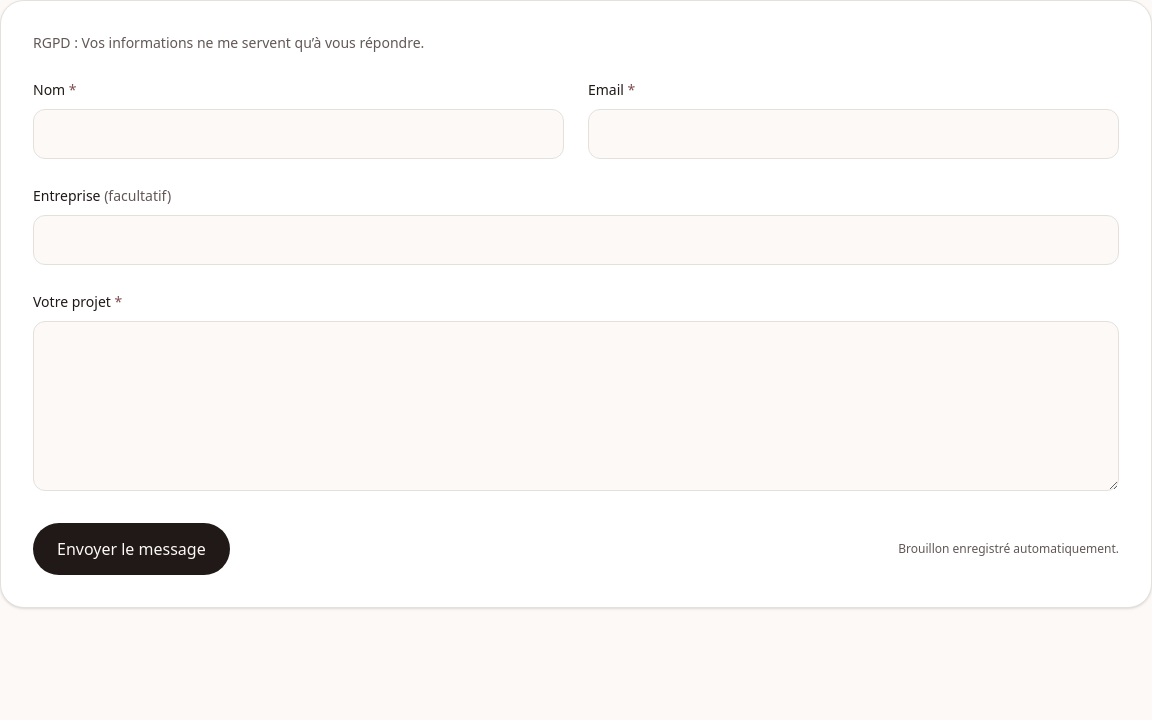
Scenario: ContactForm › confirms the delivery and clears the draft once the message is sent
The width and height of the screenshot is (1152, 720).
Type "Ada Lovelace" into the field labelled "Nom" at (298, 134), box [33, 109, 564, 159]
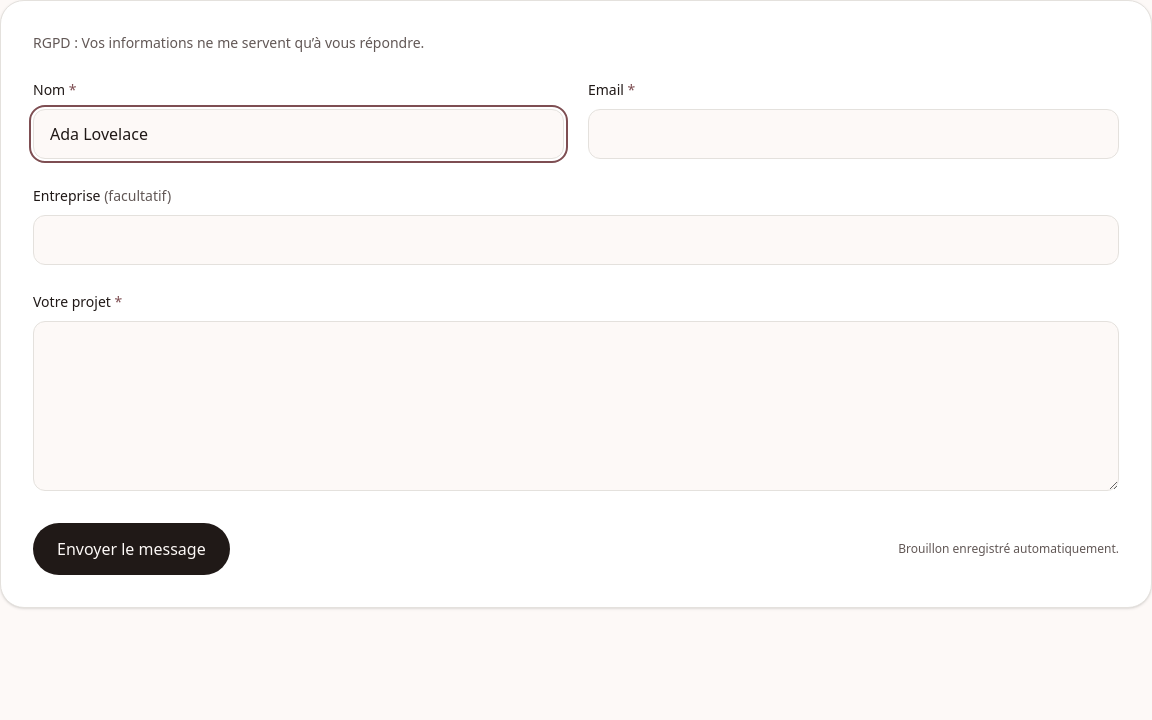
Type "ada@example.com" into the field labelled "Email" at (854, 134), box [588, 109, 1119, 159]
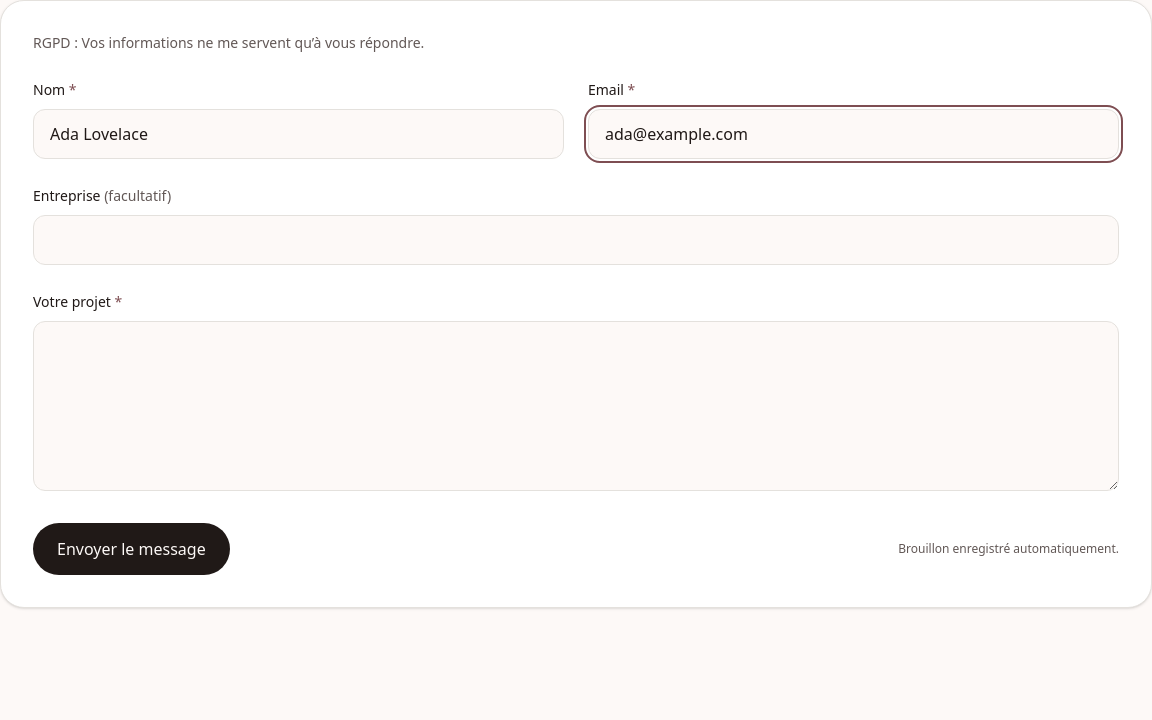
Type "Refonte de notre site vitrine en React." into the text box labelled "Votre projet" at (576, 406), box [33, 321, 1119, 491]
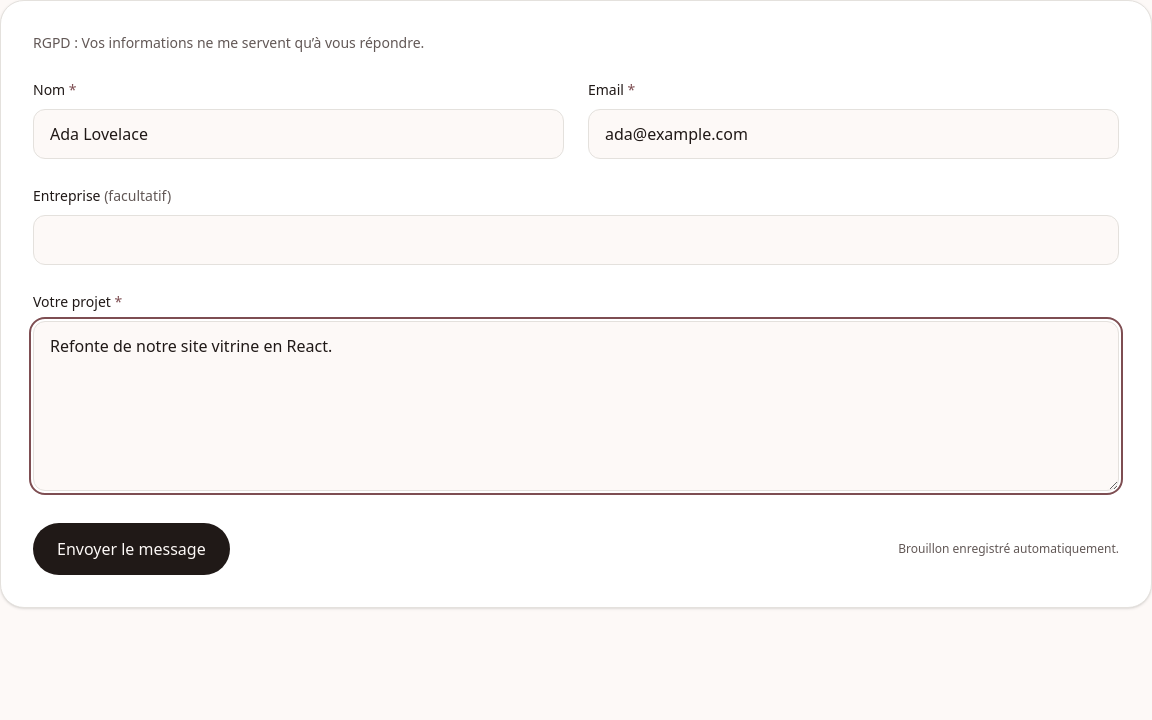
Click the button "Envoyer le message" at (131, 549), box [33, 523, 230, 575]
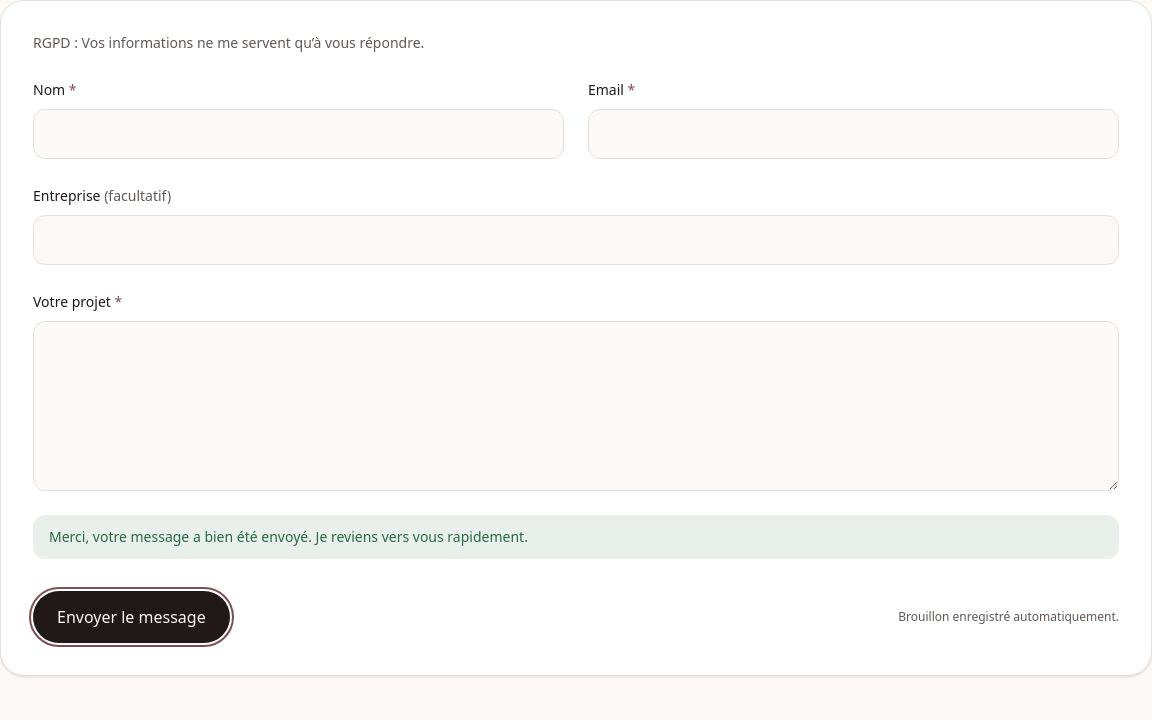
Expected: the text "Merci, votre message a bien été envoyé. Je reviens vers vous rapidement." is shown, [33, 515, 1119, 559]
Expected: the field labelled "Nom" is empty, [33, 109, 564, 159]
